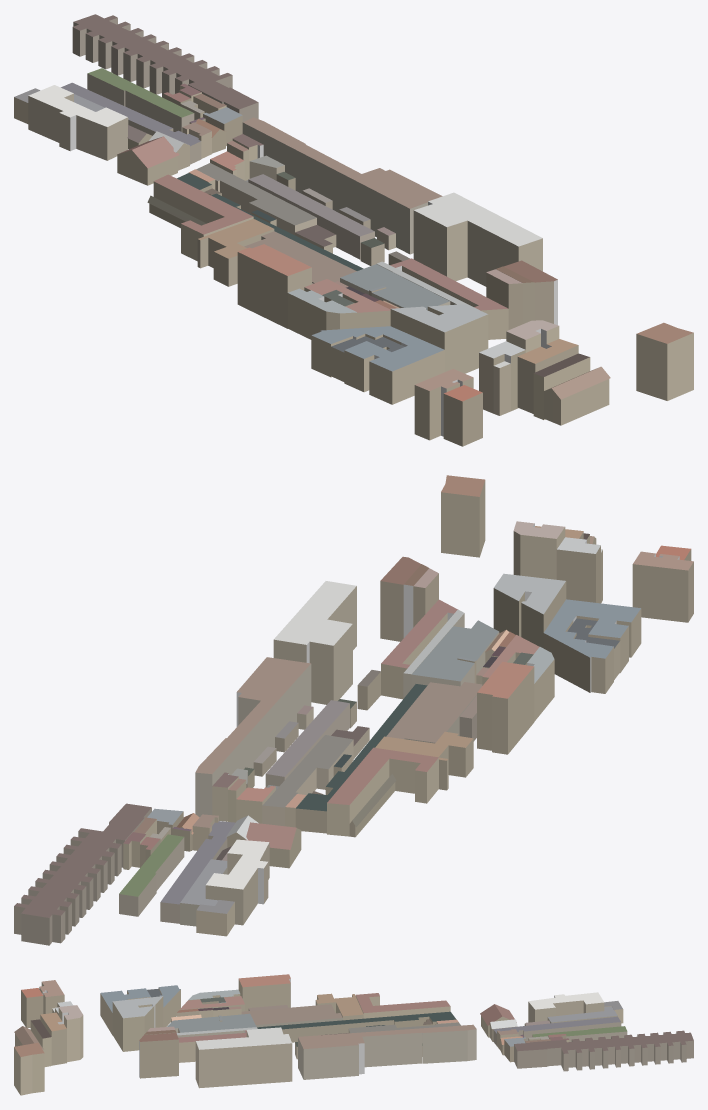
3 renders of one model, top to bottom at view 1: azimuth 30°, elevation 25°; view 2: azimuth 150°, elevation 25°; view 3: azimuth 270°, elevation 25°, orthographic. The views are drawn at different scales.
Parts seen in each view (by area): view 1: tuile; view 2: tuile; view 3: tuile.
Boxes of the visible parts, x1,y1,x2,y2 form: tuile: [14, 14, 693, 446]; tuile: [14, 475, 693, 945]; tuile: [14, 974, 693, 1095].
Bounding box in the file's own units: 87.11 × 20.37 × 286.
